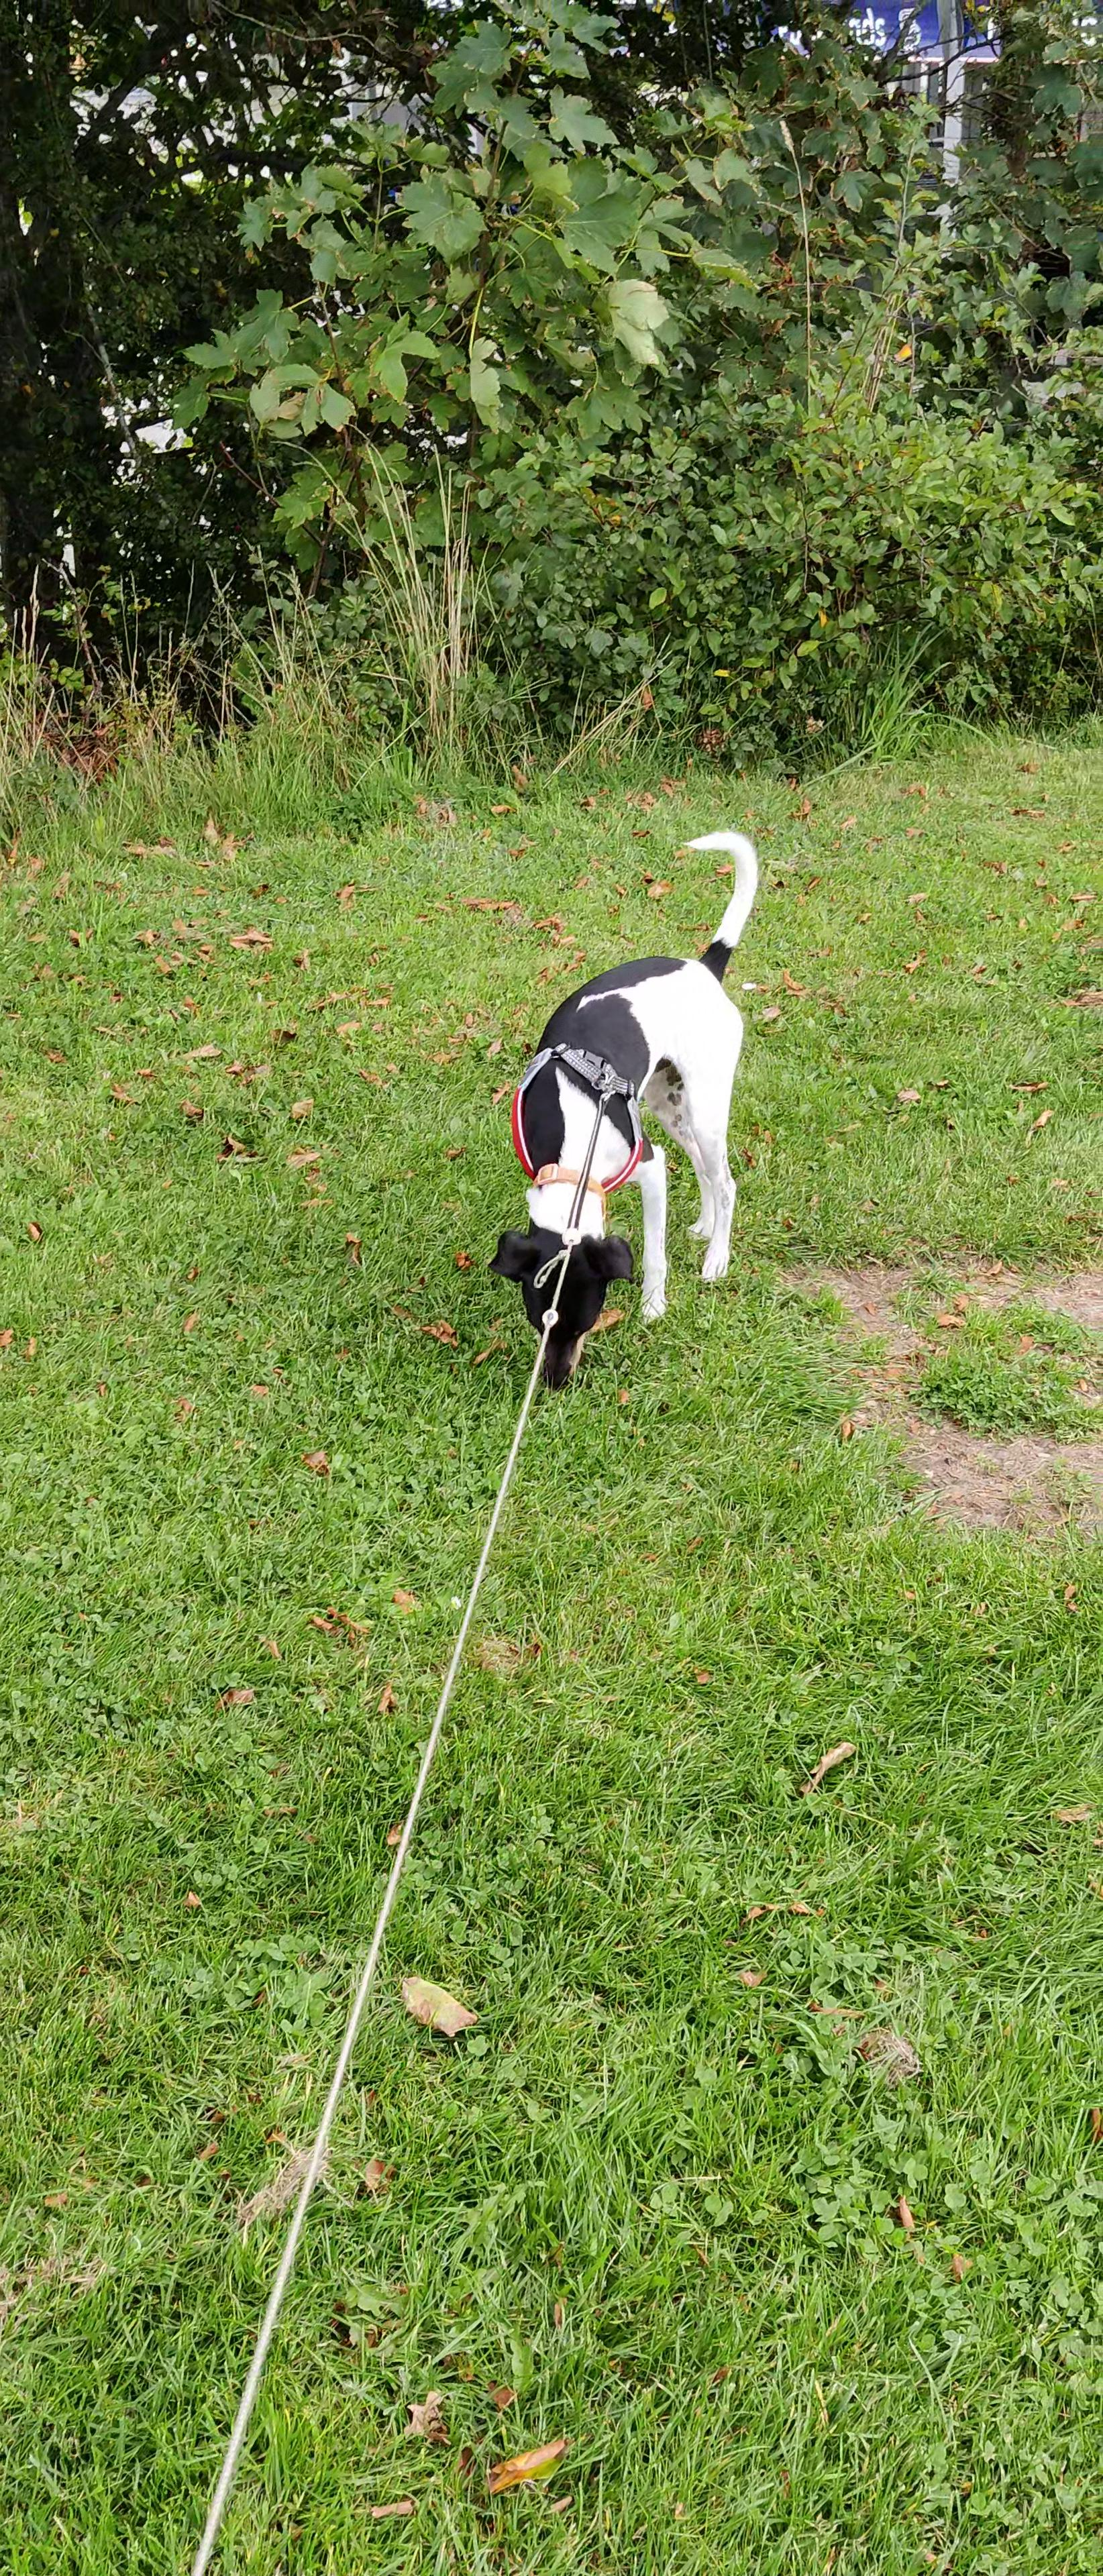Dog: (482, 823, 776, 1390)
